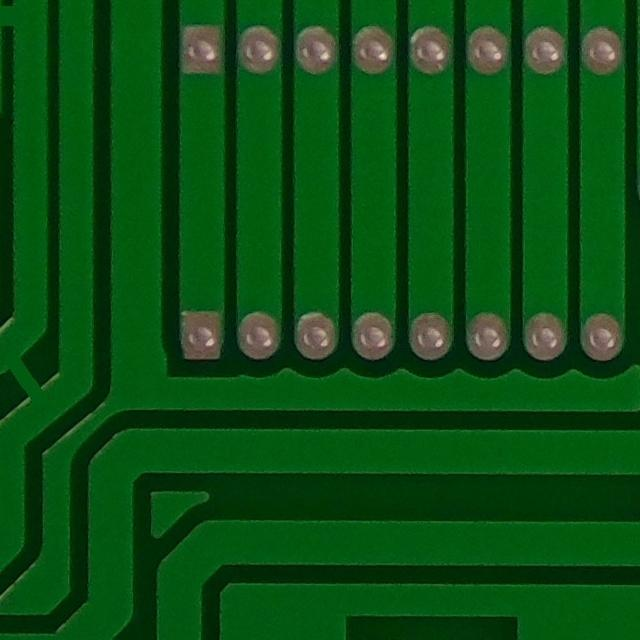short: (0, 308, 79, 424), (0, 0, 55, 75)
